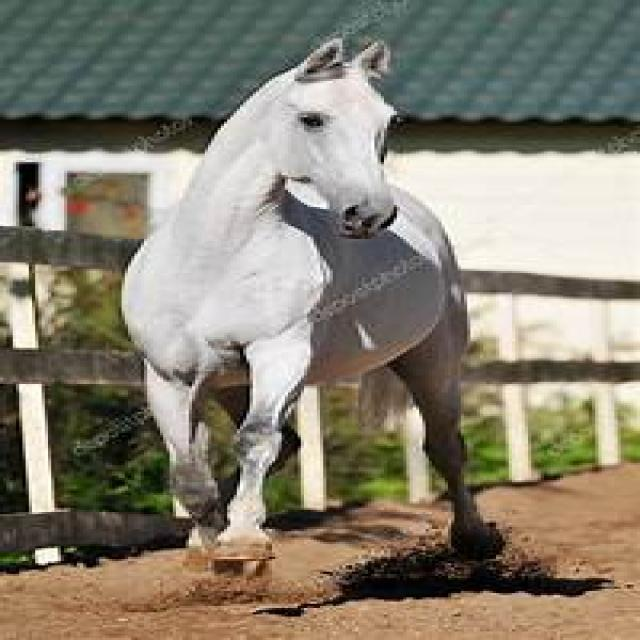horse: (122, 36, 502, 563)
